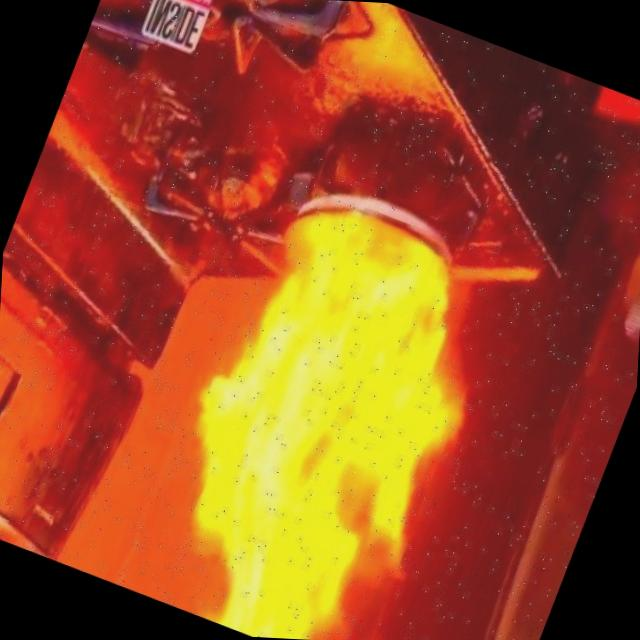fire: (105, 105, 562, 640)
